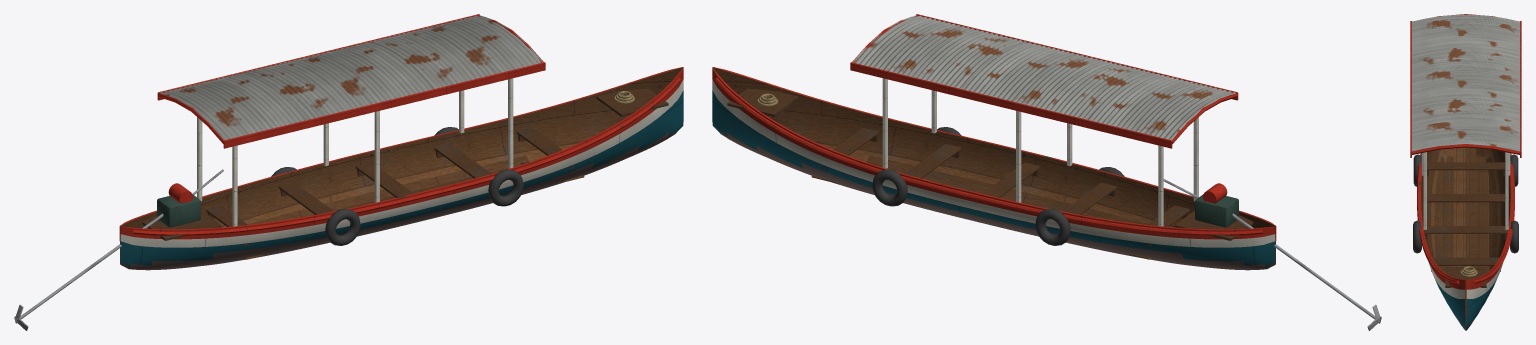
Rendered from ketek.glb.
3 views of the same model, side by side, from view 1: azimuth 30°, elevation 25°; view 2: azimuth 150°, elevation 25°; view 3: azimuth 270°, elevation 25° (orthographic). The views are drawn at different scales.
Parts seen in each view (by area): view 1: ketek_badan; view 2: ketek_badan; view 3: ketek_badan.
Boxes of the visible parts, bbox=[...] form: ketek_badan: bbox=[20, 14, 683, 319]; ketek_badan: bbox=[712, 14, 1375, 319]; ketek_badan: bbox=[1410, 14, 1521, 330].
Bounding box in the file's own units: 10.65 × 2.72 × 1.85.
Materials: 11 (9 with a texture image).
